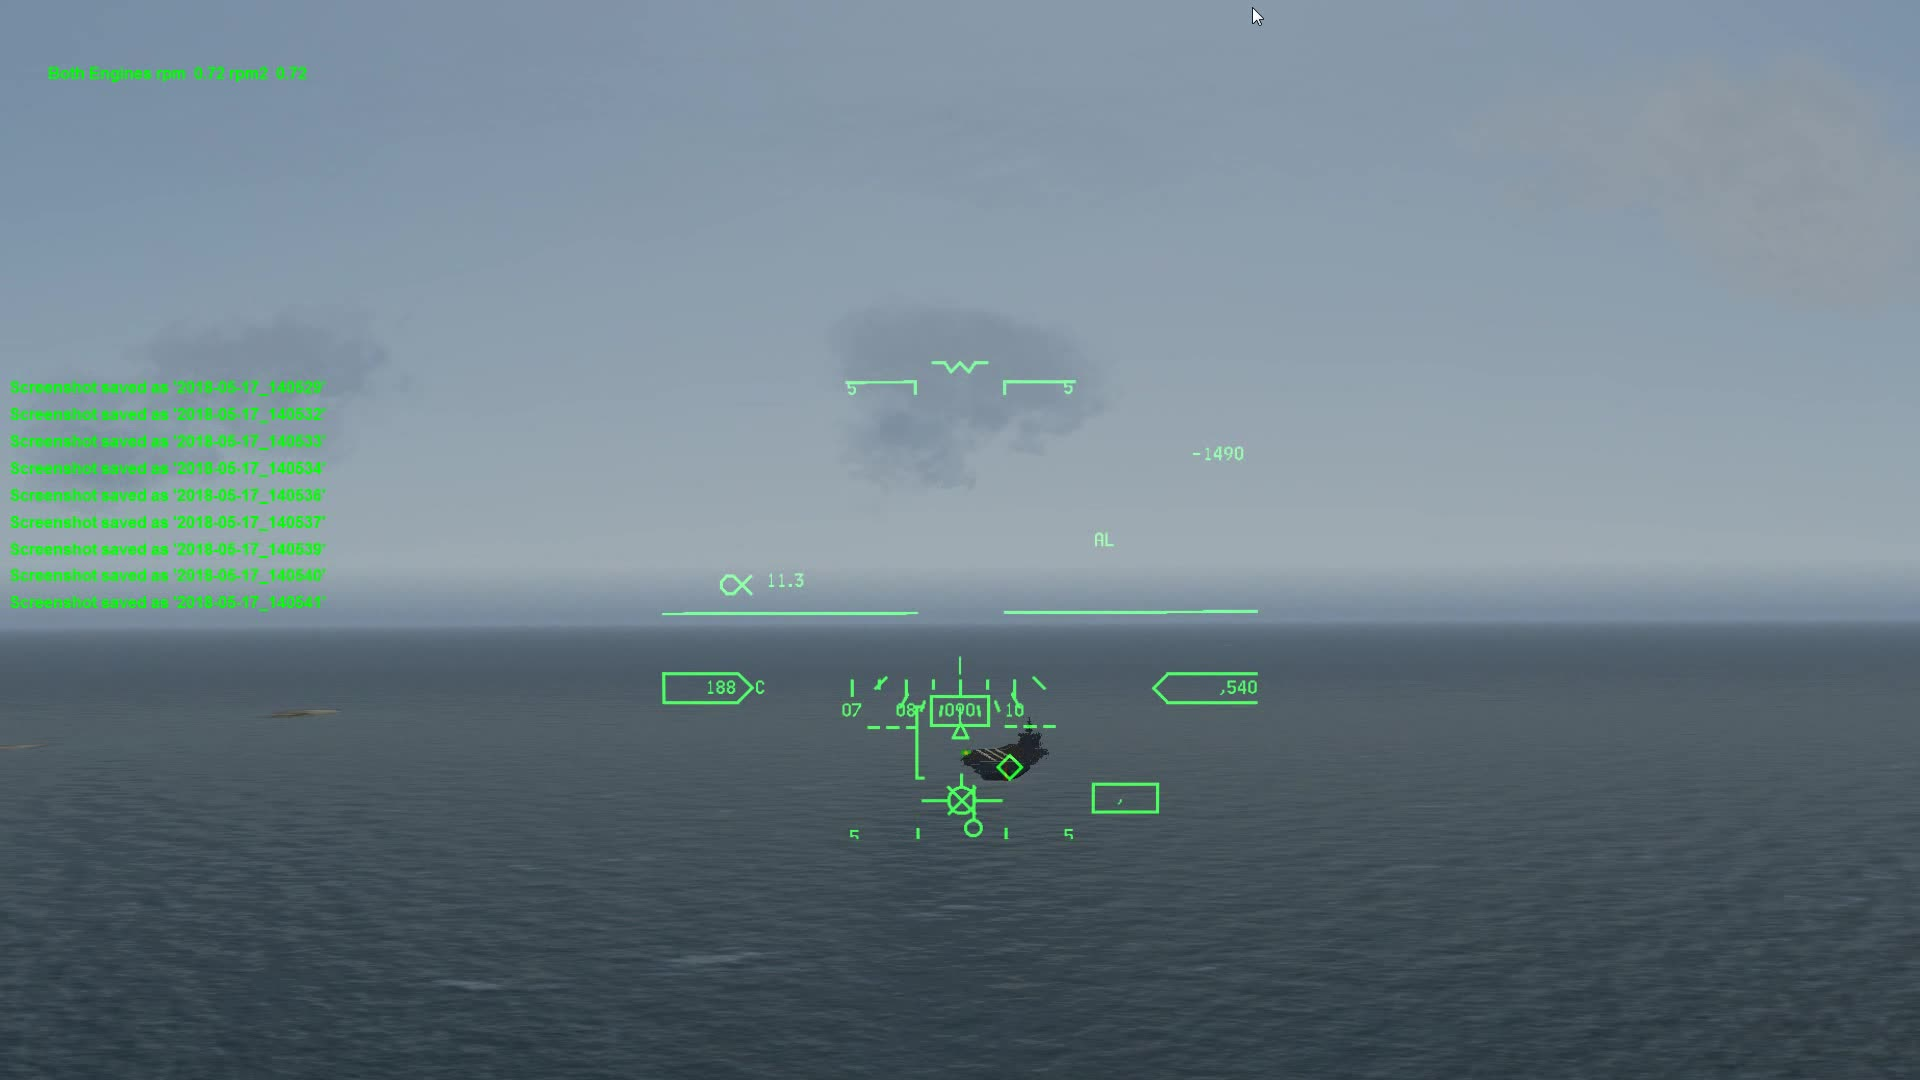speed vector: (915, 760, 1007, 816)
